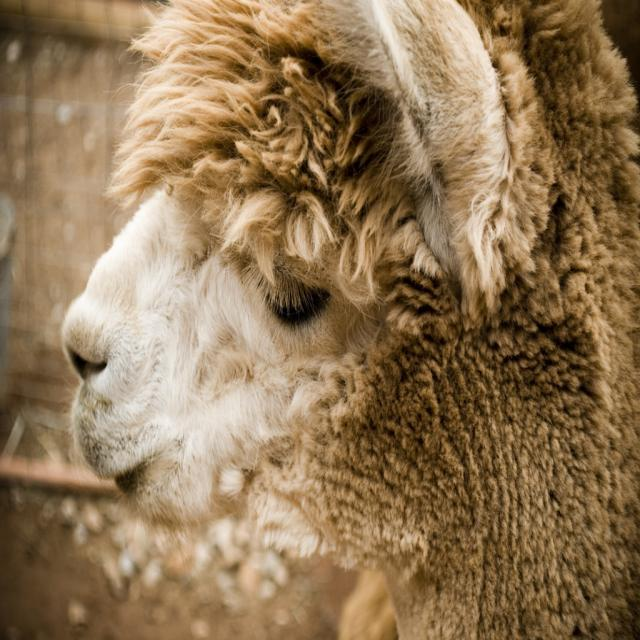Sheep: (56, 1, 640, 639)
